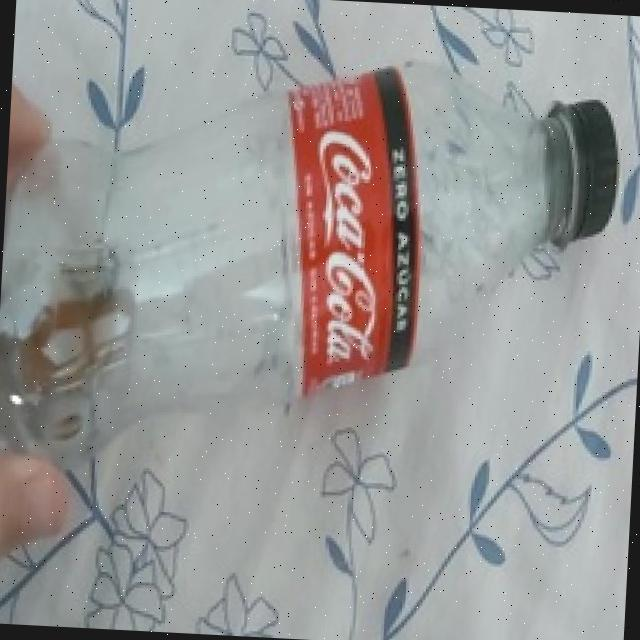bottle: (0, 30, 629, 467)
cap: (552, 95, 622, 248)
label: (246, 61, 464, 418)
